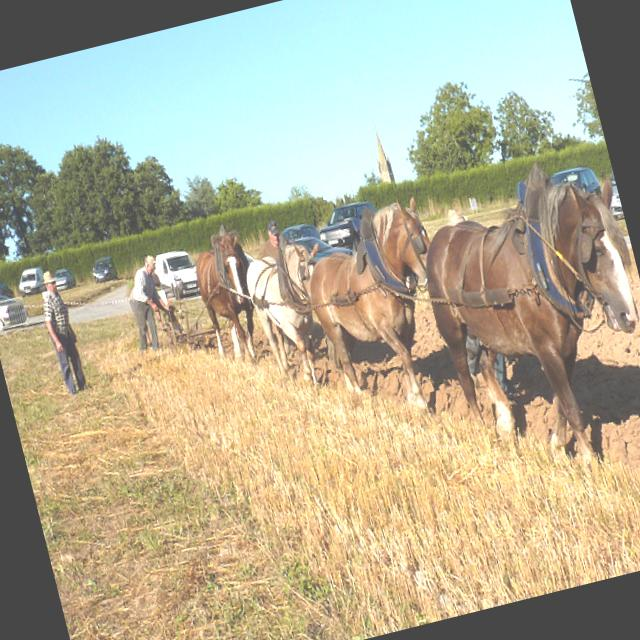Vehicle: (314, 196, 385, 259), (150, 244, 204, 303), (292, 226, 354, 269), (548, 162, 603, 206), (597, 162, 625, 223), (0, 285, 29, 333), (281, 220, 321, 247), (15, 264, 48, 296), (88, 252, 119, 282), (52, 266, 78, 292)
